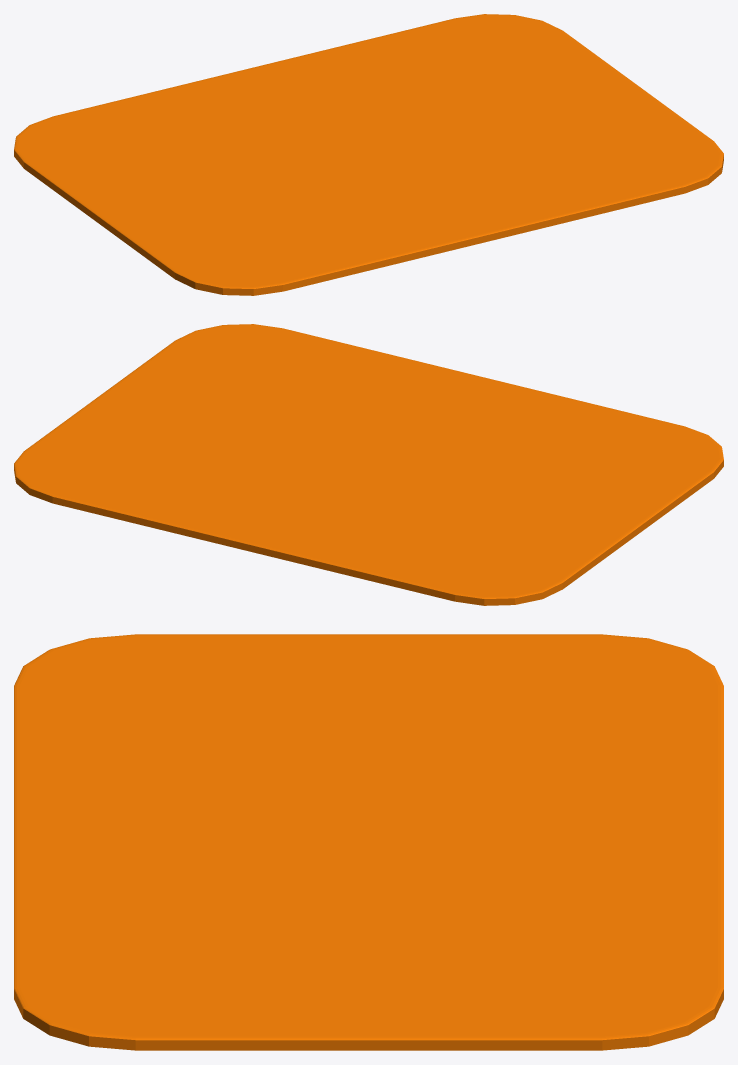
3 views of the same model, one above another, from view 1: azimuth 30°, elevation 25°; view 2: azimuth 150°, elevation 25°; view 3: azimuth 270°, elevation 25° (orthographic). The views are drawn at different scales.
Parts seen in each view (by area): view 1: Cube.010; view 2: Cube.010; view 3: Cube.010.
Part boxes in pixels (x1,y1,x2,y2): Cube.010: (14,14,723,295); Cube.010: (14,324,723,605); Cube.010: (14,634,723,1050).
Bounding box in the file's own units: 75.14 × 0.9754 × 55.58.
